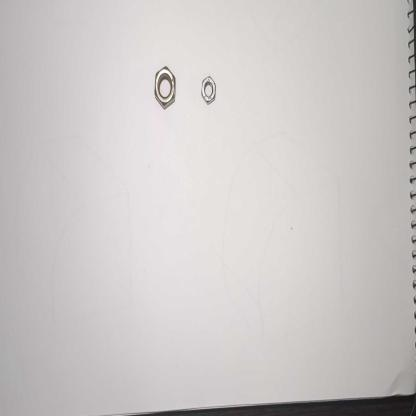NUTS: (152, 60, 178, 114), (199, 71, 222, 115)
